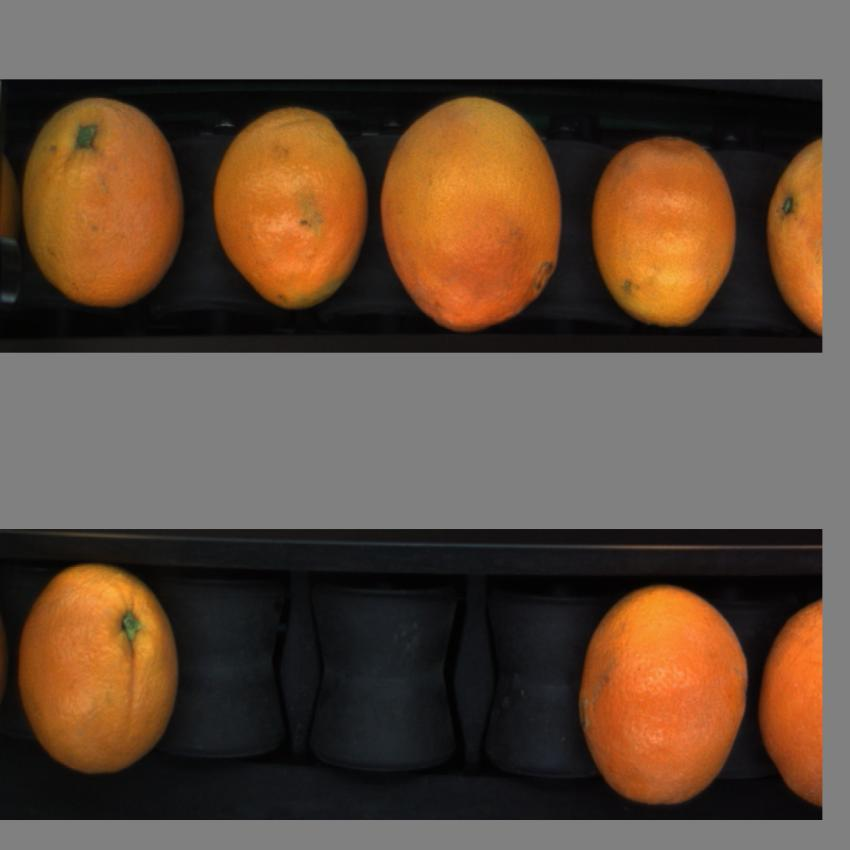Buen estado: (380, 91, 564, 330), (575, 562, 750, 811), (15, 552, 187, 774), (20, 98, 192, 310), (211, 104, 370, 322), (591, 124, 739, 327), (760, 588, 822, 809), (763, 131, 822, 336)
